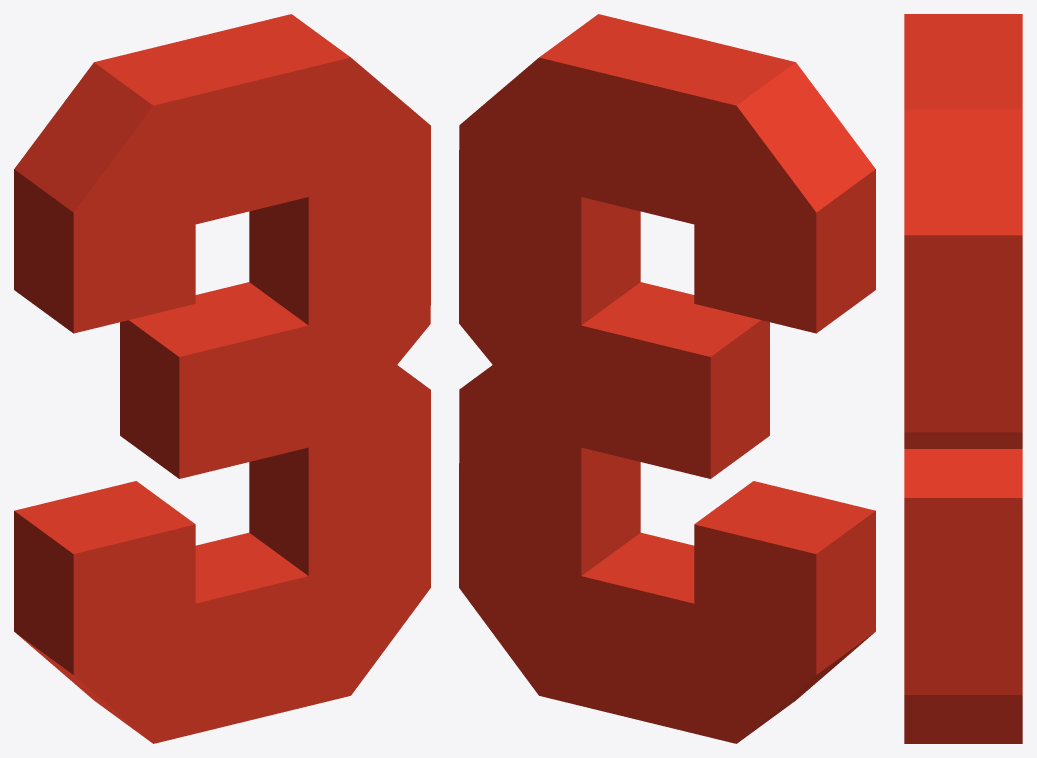
The model's file is Icon_Number_3.fbx.
The picture shows the model from 3 angles, left to right: view 1: azimuth 30°, elevation 25°; view 2: azimuth 150°, elevation 25°; view 3: azimuth 270°, elevation 25°; orthographic projection.
Parts seen in each view (by area): view 1: Icon_Number_3; view 2: Icon_Number_3; view 3: Icon_Number_3.
Boxes of the visible parts, x1,y1,x2,y2 form: Icon_Number_3: (14,14,430,743); Icon_Number_3: (459,14,875,743); Icon_Number_3: (904,14,1022,743).
Size of the model in its own units: 41.87 by 71.49 by 12.06.
